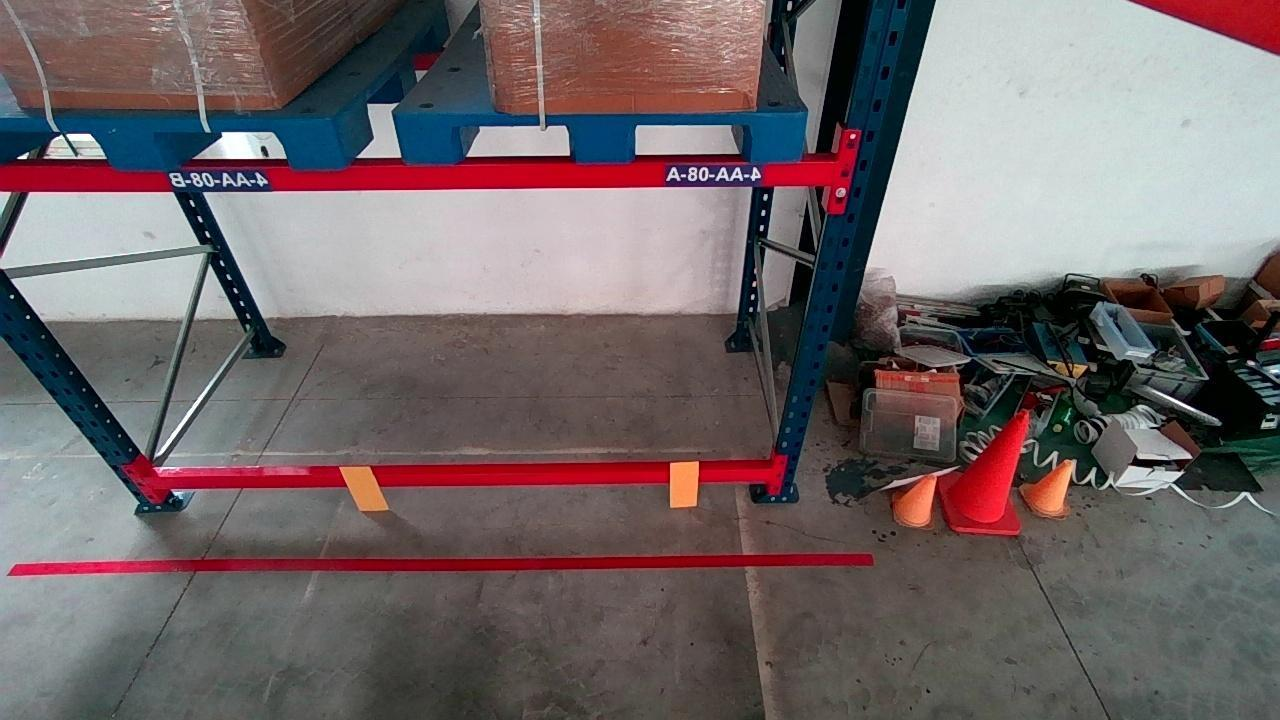h_rack: (0, 158, 835, 194), (149, 468, 775, 485)
orange_strip: (341, 465, 387, 510), (669, 459, 701, 506)
red_line: (6, 548, 875, 578)
small_pallet: (401, 109, 807, 162), (0, 115, 337, 169)
